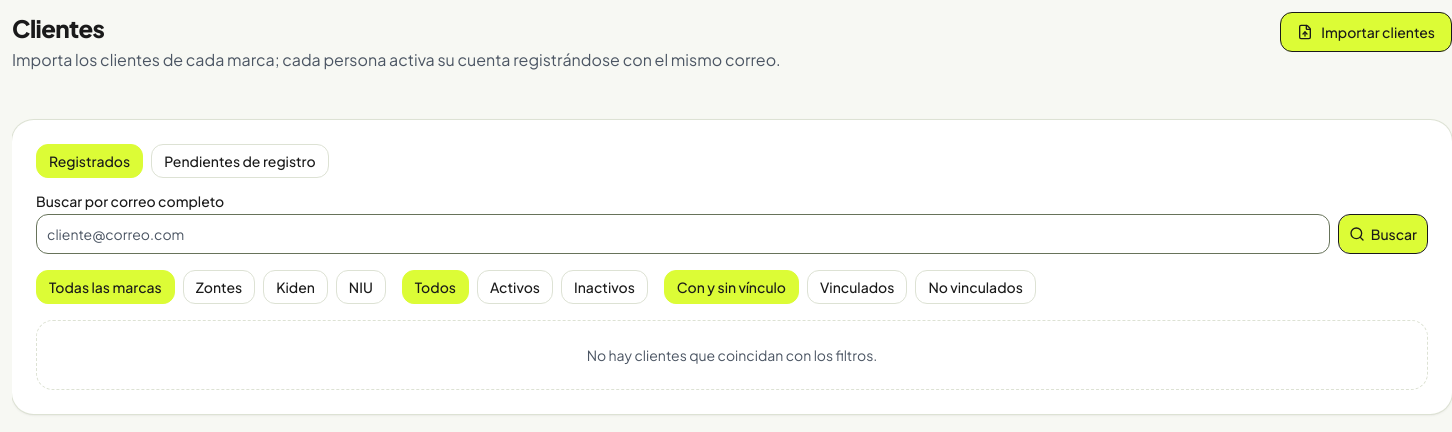
Test case: F8-FE-02 · Clientes: importar y pendientes de registro (UI-07) › ofrece importar, no crear, y lista los importados sin cuenta
Click the button "Pendientes de registro".
click(240, 161)  # box [151,144,329,178]
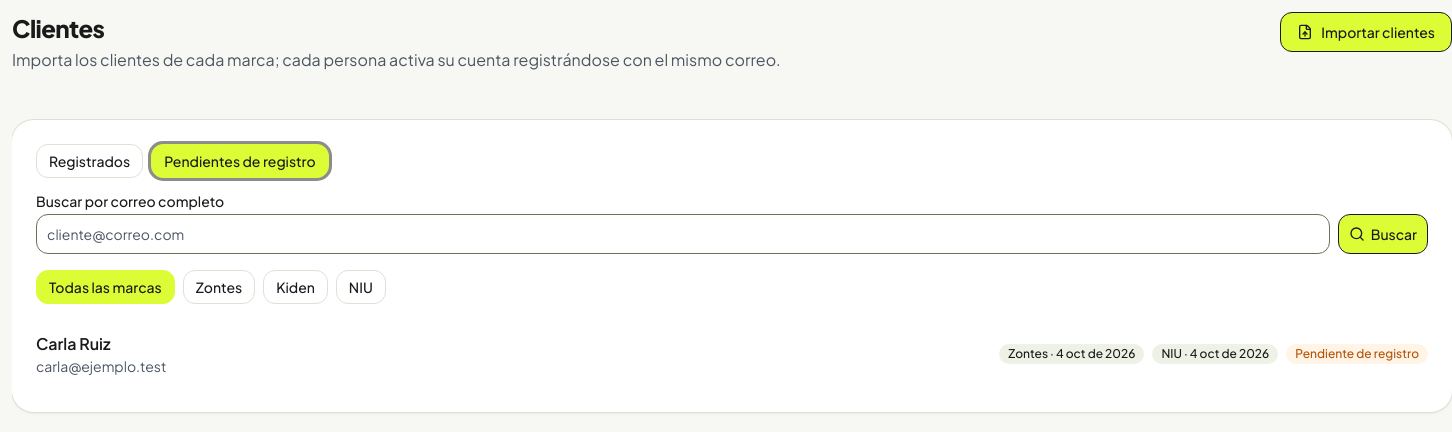
Expected: the list named "Pendientes de registro" shows "Carla Ruiz", [36,333,111,354]
Expected: the list named "Pendientes de registro" shows "Zontes", [1008,346,1048,361]
Expected: the list named "Pendientes de registro" shows "NIU", [1161,346,1182,361]
